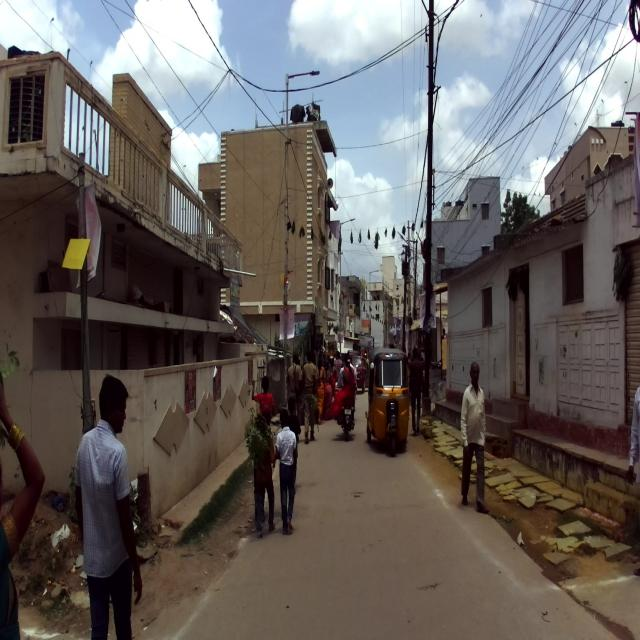autorickshaw: (364, 346, 412, 456)
motorcycle_Hero: (333, 370, 360, 440)
